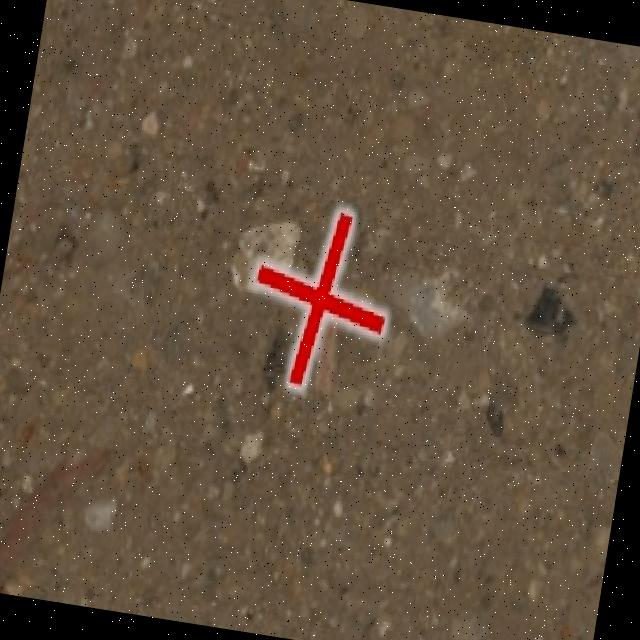x_marker: (242, 200, 399, 397)
